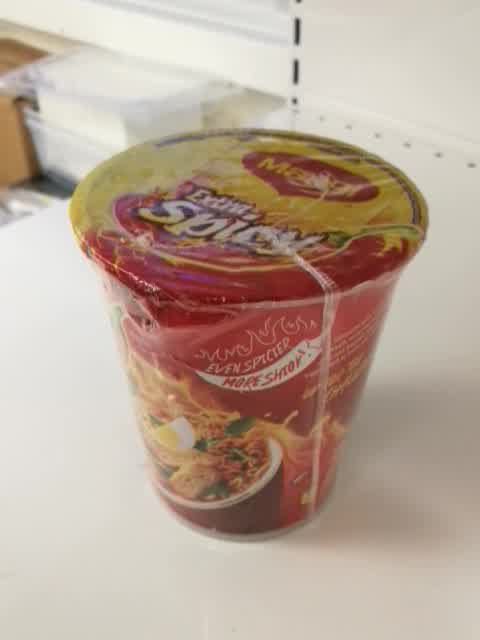maggi: (68, 127, 430, 544)
